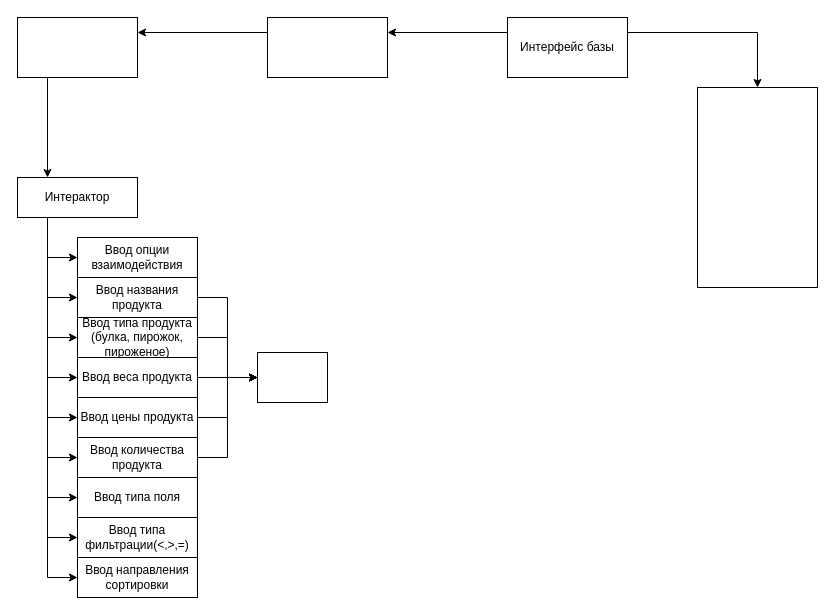
Image size: 835x615. Some labels were removed from this diagram. The shapes that lost their labels are listed below. From the top down, each one's box as (x1, y1, x2, y2) in pixels, then its label:
(16, 16, 138, 78): Пчел
(696, 86, 818, 288): База
(256, 352, 328, 402): Ввод продукта
